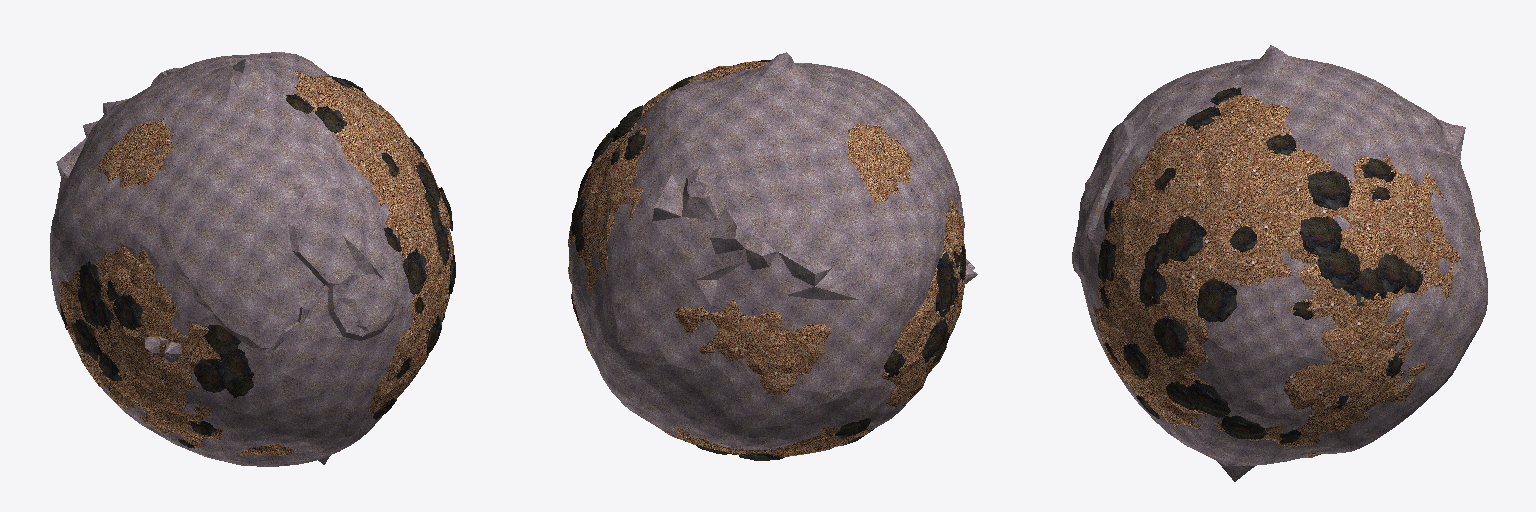
3 views of the same model, side by side, from view 1: azimuth 30°, elevation 25°; view 2: azimuth 150°, elevation 25°; view 3: azimuth 270°, elevation 25° (orthographic).
Visible parts, largest first — view 1: rock_Sphere.001, region1_Sphere.009, Sphere.006, Sphere.003_Sphere.002, Sphere.008_Sphere.011, altrock.057_Icosphere.004, altrock.063_Icosphere.004, altrock.011_Icosphere.004, altrock.059_Icosphere.004, altrock.066_Icosphere.004, altrock.065_Icosphere.004; view 2: rock_Sphere.001, Sphere.004, region1_Sphere.009, Sphere.006, Sphere.003_Sphere.002, Sphere.007, altrock.066_Icosphere.004; view 3: region1_Sphere.009, rock_Sphere.001, Sphere.002_Sphere.010, altrock.026_Icosphere.004, altrock.019_Icosphere.004, altrock.022_Icosphere.004, altrock.025_Icosphere.004, altrock.014_Icosphere.004, Sphere.008_Sphere.011, altrock.032_Icosphere.004, altrock.023_Icosphere.004, altrock.002_Icosphere.004 (+5 smaller).
Boxes of the visible parts, <box> form: rock_Sphere.001: <box>50,52,413,466</box>; region1_Sphere.009: <box>294,71,453,415</box>; Sphere.006: <box>59,245,222,447</box>; Sphere.003_Sphere.002: <box>96,118,173,188</box>; Sphere.008_Sphere.011: <box>288,178,394,340</box>; altrock.057_Icosphere.004: <box>194,359,233,392</box>; altrock.063_Icosphere.004: <box>113,295,142,330</box>; altrock.011_Icosphere.004: <box>403,248,426,294</box>; altrock.059_Icosphere.004: <box>204,325,240,354</box>; altrock.066_Icosphere.004: <box>72,319,101,360</box>; altrock.065_Icosphere.004: <box>79,261,102,302</box>; rock_Sphere.001: <box>569,52,977,449</box>; Sphere.004: <box>674,300,830,396</box>; region1_Sphere.009: <box>568,61,767,357</box>; Sphere.006: <box>880,198,966,408</box>; Sphere.003_Sphere.002: <box>846,122,911,203</box>; Sphere.007: <box>656,426,872,457</box>; altrock.066_Icosphere.004: <box>921,319,947,362</box>; region1_Sphere.009: <box>1093,95,1461,446</box>; rock_Sphere.001: <box>1072,45,1487,481</box>; Sphere.002_Sphere.010: <box>1193,238,1336,433</box>; altrock.026_Icosphere.004: <box>1300,217,1342,256</box>; altrock.019_Icosphere.004: <box>1197,278,1236,321</box>; altrock.022_Icosphere.004: <box>1165,216,1206,261</box>; altrock.025_Icosphere.004: <box>1308,171,1351,209</box>; altrock.014_Icosphere.004: <box>1318,248,1359,288</box>; Sphere.008_Sphere.011: <box>1077,117,1137,278</box>; altrock.032_Icosphere.004: <box>1186,380,1230,417</box>; altrock.023_Icosphere.004: <box>1153,318,1188,357</box>; altrock.002_Icosphere.004: <box>1377,253,1407,293</box>.
Size of the model in its own units: 2031 by 2266 by 2096.
9 materials, 3 textured.